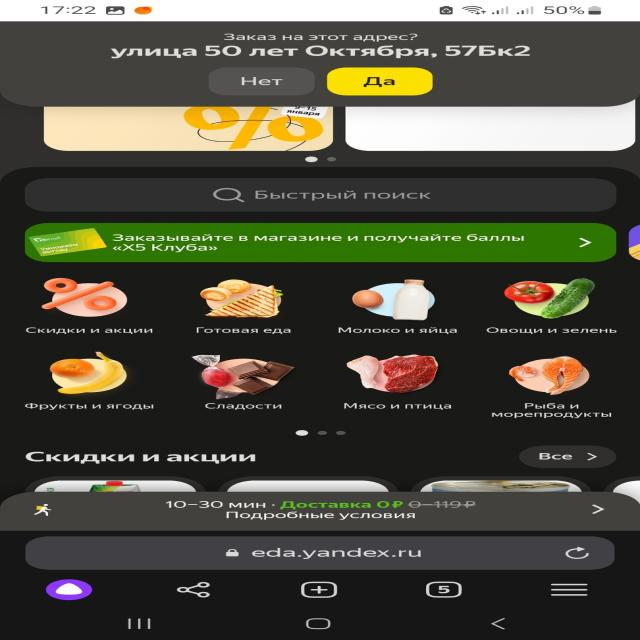button: (209, 67, 318, 97), (327, 68, 435, 98)
site: (2, 22, 640, 106), (0, 493, 640, 532)
